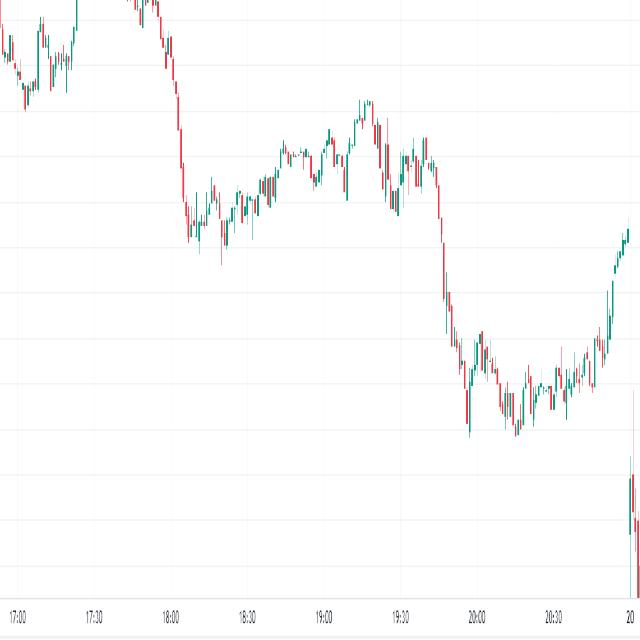Rounding-Bottom: (436, 267, 619, 461)
